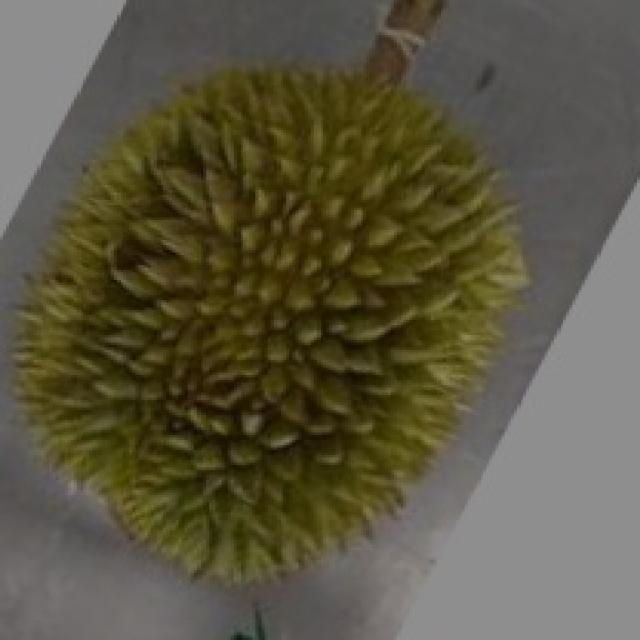fruit: (302, 0, 622, 505), (0, 230, 357, 635)
